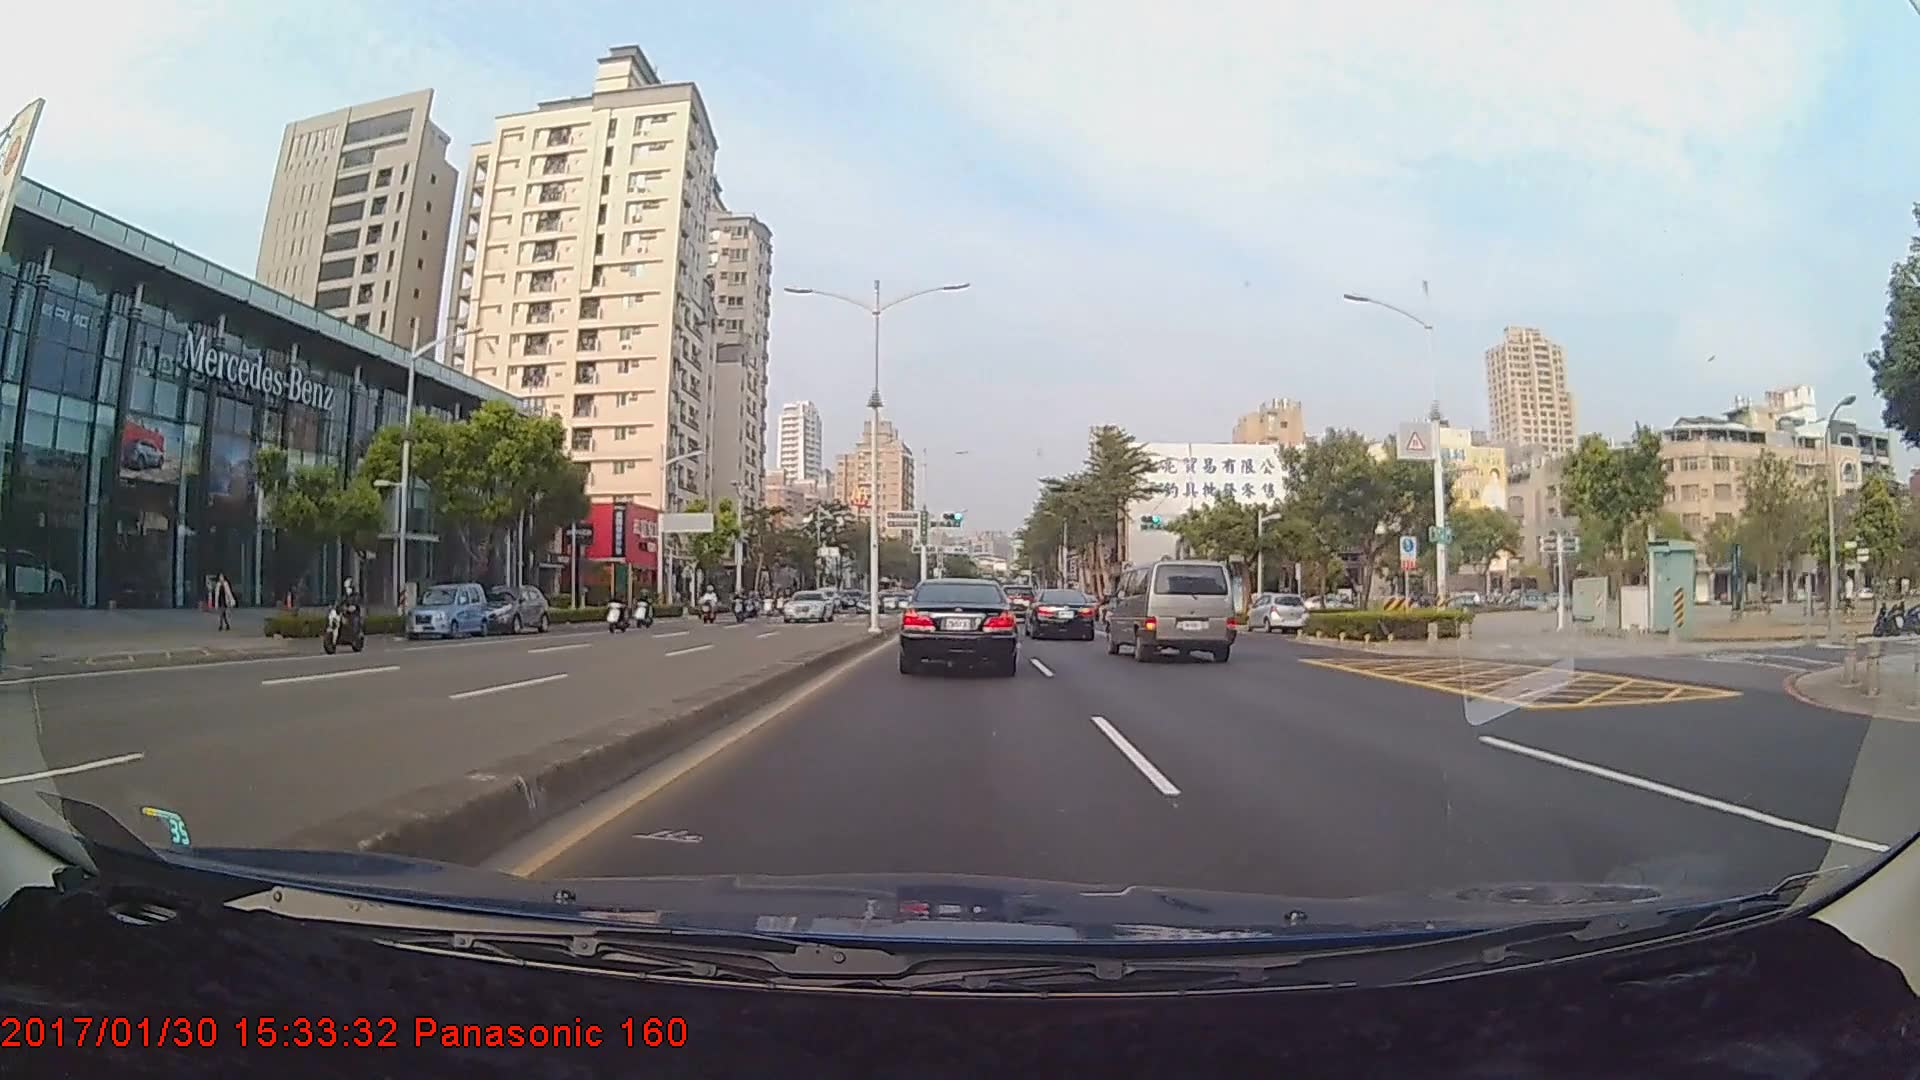pedestrian: (213, 572, 236, 632)
rider: (314, 578, 371, 660), (598, 586, 637, 638), (631, 584, 659, 632)
vehicle: (1107, 558, 1237, 663), (899, 576, 1019, 675), (405, 581, 487, 638), (471, 583, 552, 636), (1024, 587, 1097, 642), (1248, 592, 1305, 633), (782, 590, 834, 620)
